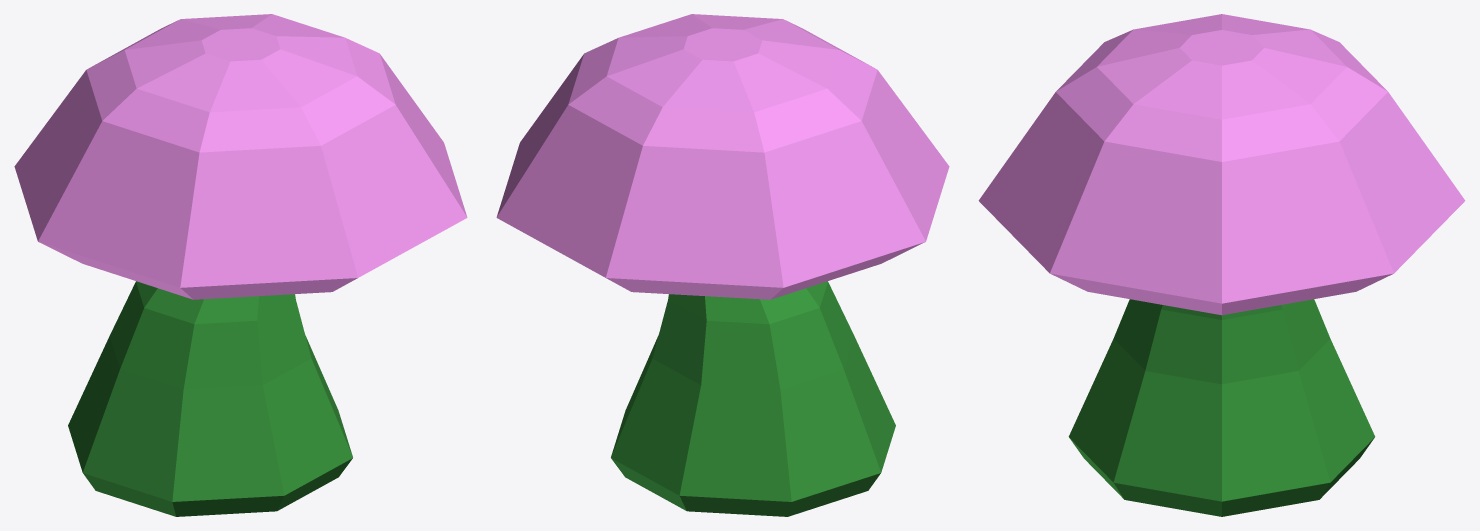
The model's file is TinyMushroom.FBX.
3 renders of one model, left to right at view 1: azimuth 30°, elevation 25°; view 2: azimuth 150°, elevation 25°; view 3: azimuth 270°, elevation 25°, orthographic. The views are drawn at different scales.
Visible parts, largest first — view 1: TinyMushroomHead, TinyMushroomStalk; view 2: TinyMushroomHead, TinyMushroomStalk; view 3: TinyMushroomHead, TinyMushroomStalk.
Boxes of the visible parts, x1,y1,x2,y2 form: TinyMushroomHead: (14,14,467,299); TinyMushroomStalk: (68,281,352,516); TinyMushroomHead: (496,14,949,299); TinyMushroomStalk: (611,281,895,516); TinyMushroomHead: (978,14,1465,315); TinyMushroomStalk: (1068,299,1375,516).
Bounding box in the file's own units: 13.26 × 12.81 × 13.26.
